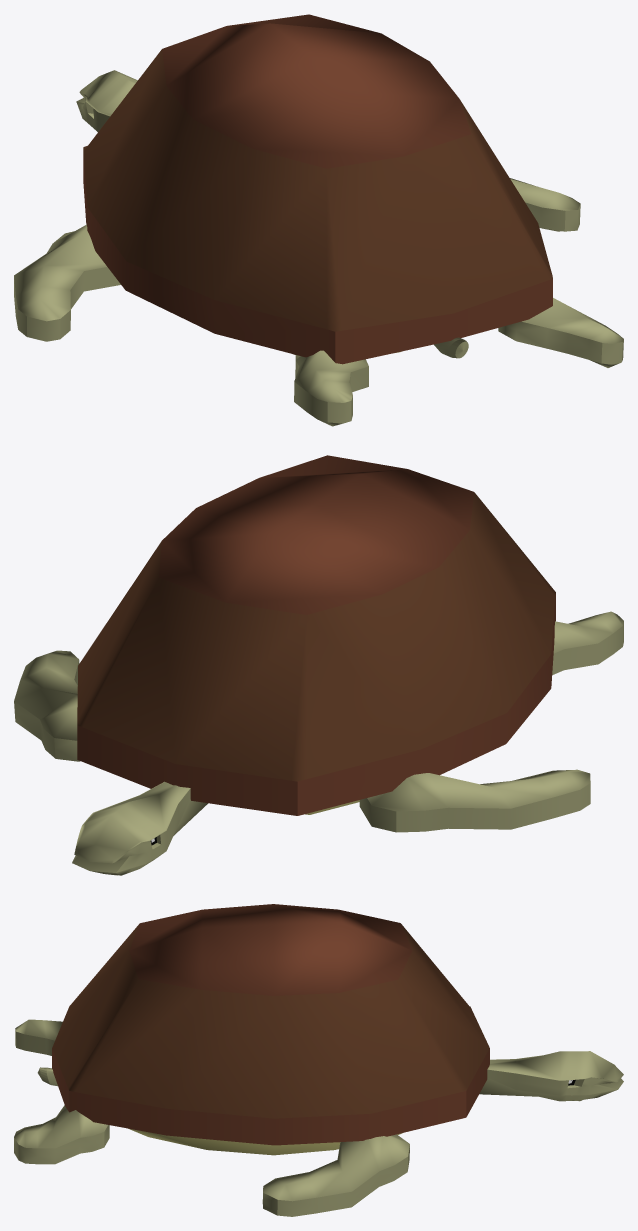
Rendered from c7cd2a8e-fdc1-4a65-a42b-a923e358ad02.glb.
3 views of the same model, one above another, from view 1: azimuth 30°, elevation 25°; view 2: azimuth 150°, elevation 25°; view 3: azimuth 270°, elevation 25° (orthographic). The views are drawn at different scales.
Parts seen in each view (by area): view 1: Box002; view 2: Box002; view 3: Box002.
Part boxes in pixels (x1=…): Box002: x1=14, y1=14, x2=623, y2=426; Box002: x1=14, y1=455, x2=623, y2=875; Box002: x1=14, y1=904, x2=623, y2=1216.
Size of the model in its own units: 82.73 by 36.08 by 100.
